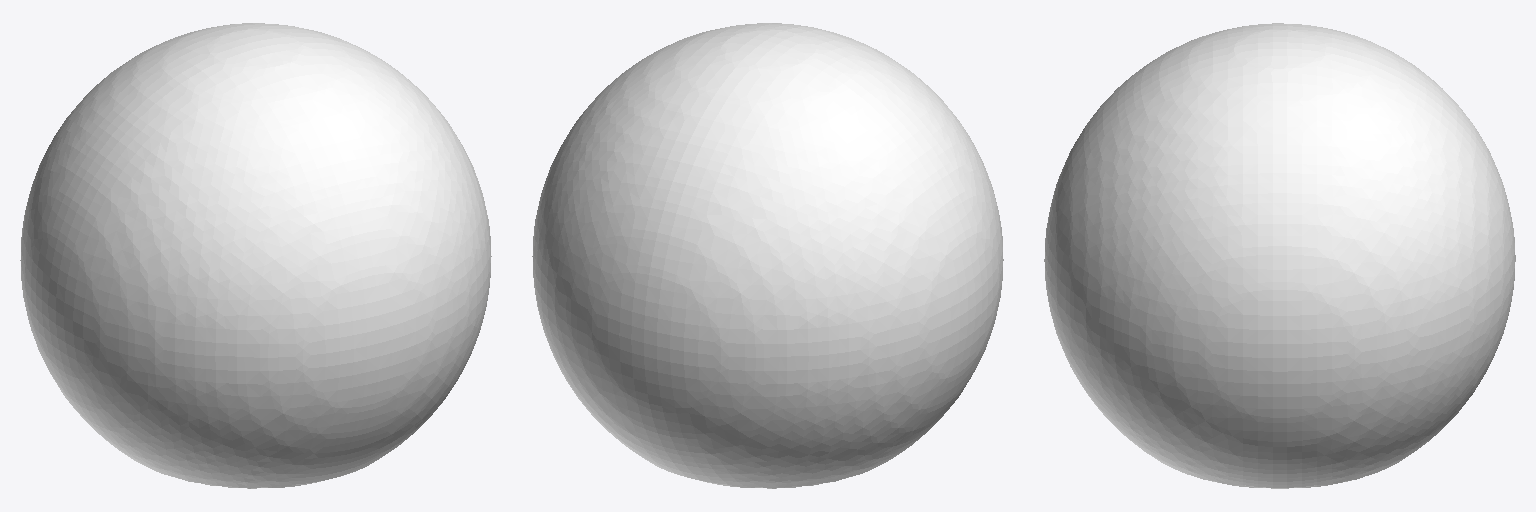
robot.urdf — custom:
<?xml version="1.0"?>
<robot name="custom">
  <material name="Blanc">
    <color rgba="1.0 1.0 1.0 1.0"/>
  </material>
  <link name="base_link">
    <visual>
      <origin xyz="0 0 0" rpy="0 0 0"/>
      <geometry>
        <mesh filename="handoff_sphere_medium.obj" scale="1 1 1"/>
      </geometry>
      <material name="Blanc"/>
    </visual>
    <collision>
      <origin xyz="0 0 0" rpy="0 0 0"/>
      <geometry>
	 	     <mesh filename="handoff_sphere_medium.obj" scale="1 1 1"/>
      </geometry>
    </collision>
    <contact>
      <lateral_friction value="5.0"/>
      <rolling_friction value="0.0001"/>
      <inertia_scaling value="3.0"/>
    </contact>
    <inertial>
      <origin rpy="0 0 0" xyz="0 0 0"/>
       <mass value="0.05"/>
       <inertia ixx="1" ixy="0" ixz="0" iyy="1" iyz="0" izz="1"/>
    </inertial>
  </link>

</robot>

--- Render facts (derived) ---
Views: 3 orthographic renders of the robot side by side, from view 1: azimuth 30°, elevation 25°; view 2: azimuth 150°, elevation 25°; view 3: azimuth 270°, elevation 25°.
Model custom with 1 links and 0 joints (none), rooted at base_link, posed all joints at 0.
Visible links, largest first — view 1: base_link; view 2: base_link; view 3: base_link.
Boxes of the visible links, x1,y1,x2,y2 form: base_link: (20, 23, 491, 488); base_link: (532, 23, 1003, 488); base_link: (1044, 23, 1515, 488).
Size in the robot's own frame: 0.0801 by 0.0801 by 0.0725 metres.
Meshes: 1 distinct files referenced, 1 mesh visuals loaded (1 OBJ).
